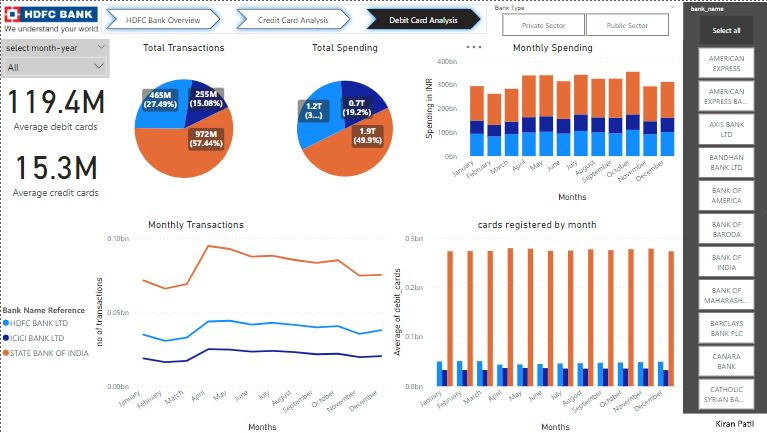

This screenshot's page, from the dashboard's own definition file:
{"tool":"powerbi","page":{"name":"Debit Card Analysis","canvas":[1280,720],"ordinal":2},"visuals":[{"type":"card","fields":{"Values":["Avg(RBI_22-23.credit_cards)"]},"box":[0,225,181.7,111.7],"z":0},{"type":"card","fields":{"Values":["Avg(RBI_22-23.debit_cards)"]},"box":[0,116.8,181,108.6],"z":1000},{"type":"lineChart","title":"Monthly Transactions","fields":{"Category":["RBI_22-23.month_year.Variation.Date Hierarchy.Year","RBI_22-23.month_year.Variation.Date Hierarchy.Month"],"Y":["RBI_22-23.debit transactions"],"Series":["RBI_22-23.bank_name"]},"box":[0,360,650,360],"z":2000},{"type":"columnChart","title":"Monthly Spending","fields":{"Category":["RBI_22-23.month_year.Variation.Date Hierarchy.Month"],"Series":["RBI_22-23.bank_name"],"Y":["RBI_22-23.debit spending"]},"box":[704.2,65.8,432.7,271.5],"z":3000},{"type":"pieChart","title":"Total Transactions","fields":{"Y":["RBI_22-23.debit transactions"],"Category":["RBI_22-23.bank_name"]},"box":[166.2,65.8,276.4,271.5],"z":4000},{"type":"pieChart","title":"Total Spending","fields":{"Y":["RBI_22-23.debit spending"],"Category":["RBI_22-23.bank_name"]},"box":[442.6,65.8,259.9,271.5],"z":5000},{"type":"clusteredColumnChart","title":"cards registered by month","fields":{"Category":["RBI_22-23.month_year.Variation.Date Hierarchy.Month"],"Series":["RBI_22-23.bank_name"],"Y":["Avg(RBI_22-23.debit_cards)"]},"box":[650,360,487.1,360],"z":6000},{"type":"slicer","fields":{"Values":["RBI_22-23.month_year"]},"box":[0,63.4,181.4,64.8],"z":7000},{"type":"slicer","fields":{"Values":["RBI_22-23.bank_name"]},"box":[1136.4,2,143.4,685.9],"z":8000},{"type":"slicer","fields":{"Values":["RBI_22-23.Bank Type"]},"box":[810,0,326.7,65],"z":9000},{"type":"pageNavigator","box":[166.7,5,643.3,50],"z":10000},{"type":"image","box":[0,1.7,166.7,58.3],"z":11000},{"type":"image","box":[1166.7,687.7,113.1,32.3],"z":12000}]}

Visuals, with their boxes on the page's 1280x720 design canvas (x1, y1, x2, y2). These are canvas units, not pixel positions in the 767x433 screenshot, which may show the page scaled, cropped or inside an application window:
card - Avg(RBI_22-23.credit_cards): detection(0, 225, 182, 337)
card - Avg(RBI_22-23.debit_cards): detection(0, 117, 181, 225)
"Monthly Transactions" lineChart: detection(0, 360, 650, 720)
"Monthly Spending" columnChart: detection(704, 66, 1137, 337)
"Total Transactions" pieChart: detection(166, 66, 443, 337)
"Total Spending" pieChart: detection(443, 66, 702, 337)
"cards registered by month" clusteredColumnChart: detection(650, 360, 1137, 720)
slicer - RBI_22-23.month_year: detection(0, 63, 181, 128)
slicer - RBI_22-23.bank_name: detection(1136, 2, 1280, 688)
slicer - RBI_22-23.Bank Type: detection(810, 0, 1137, 65)
pageNavigator: detection(167, 5, 810, 55)
image: detection(0, 2, 167, 60)
image: detection(1167, 688, 1280, 720)
